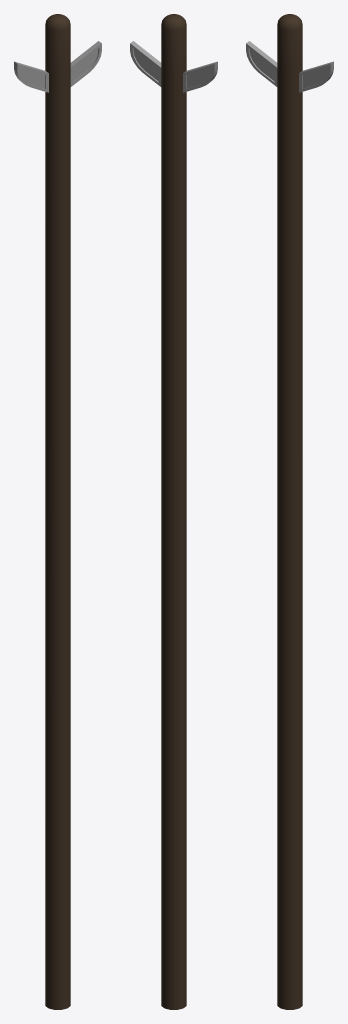
The model's file is ElectricalPost.fbx.
3 views of the same model, side by side, from view 1: azimuth 30°, elevation 25°; view 2: azimuth 150°, elevation 25°; view 3: azimuth 330°, elevation 25° (orthographic).
Visible parts, largest first — view 1: ElectricalPost; view 2: ElectricalPost; view 3: ElectricalPost.
Boxes of the visible parts, <box> form: ElectricalPost: <box>14,14,101,1009</box>; ElectricalPost: <box>130,14,217,1009</box>; ElectricalPost: <box>246,14,333,1009</box>.
Bounding box in the file's own units: 81.56 × 912 × 20.9.
